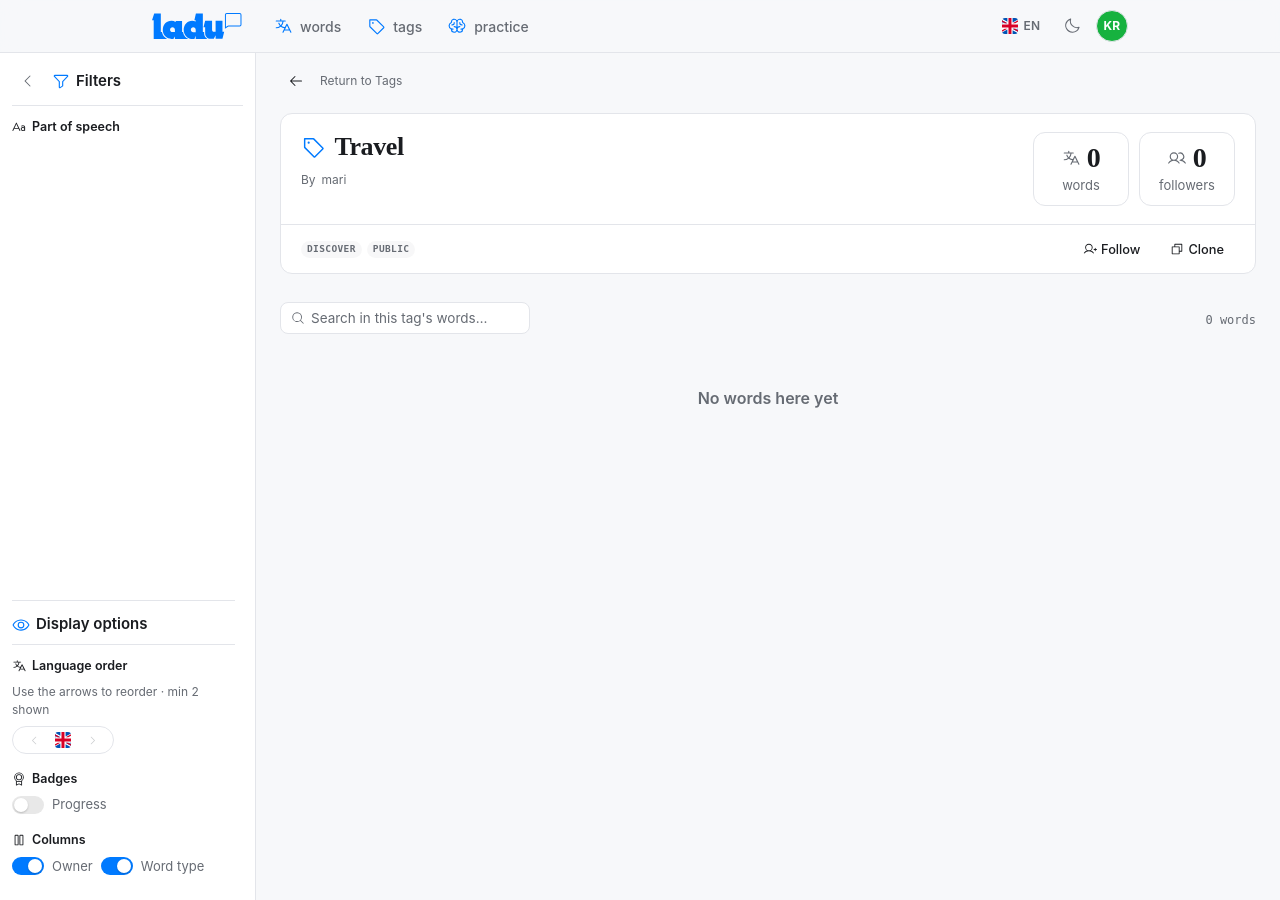
Test: TagViewPage — discover tag › shows Follow/Clone; following it shows a toast and updates the relation
Expected: the text "Discover" is shown, [301,241,362,258]
Click the button "Follow" at x=1112, y=249, box [1072,235,1151,263]
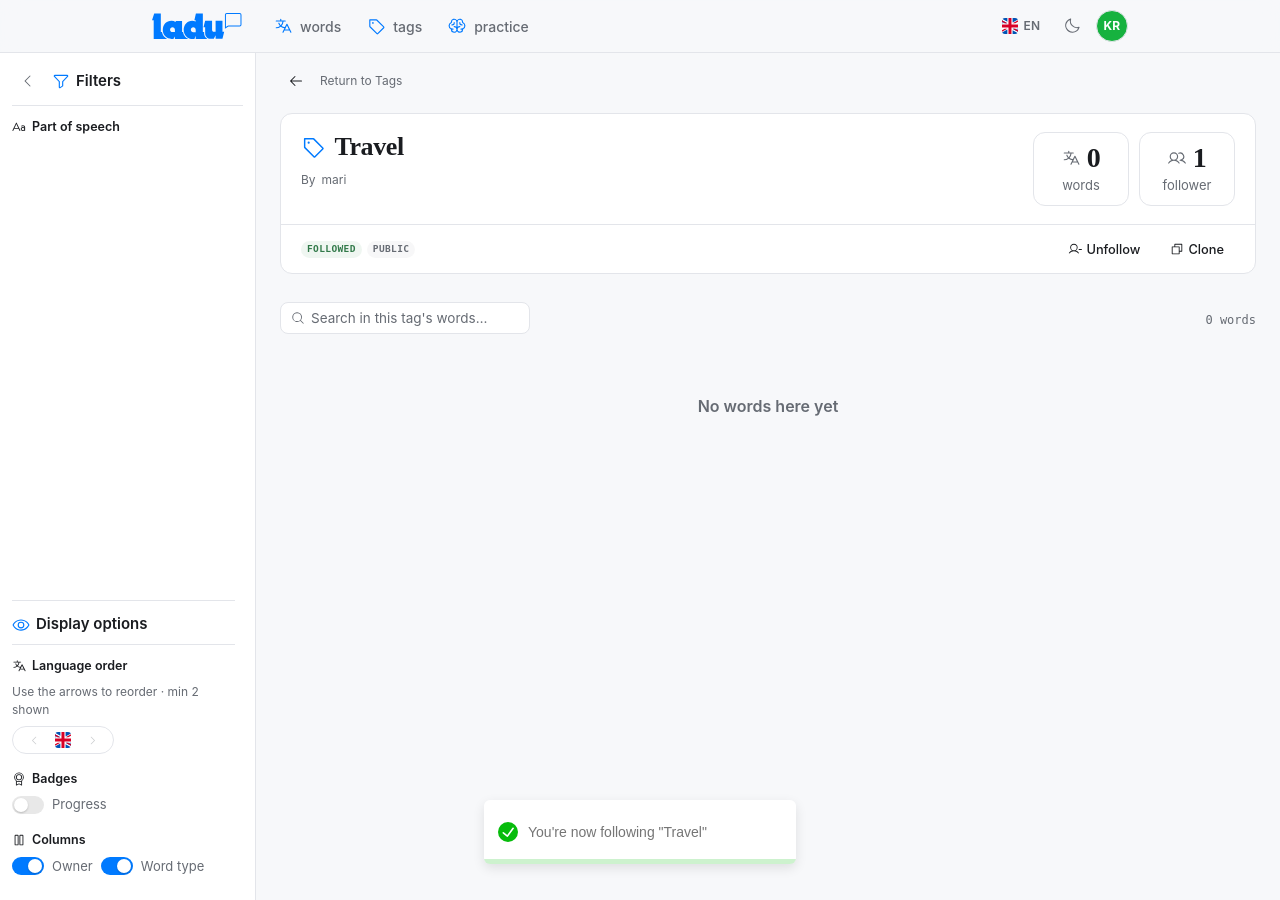
Expected: the text "You're now following \"Travel\"" is shown, [528,824,707,840]
Expected: the text "Followed" is shown, [301,241,362,258]
